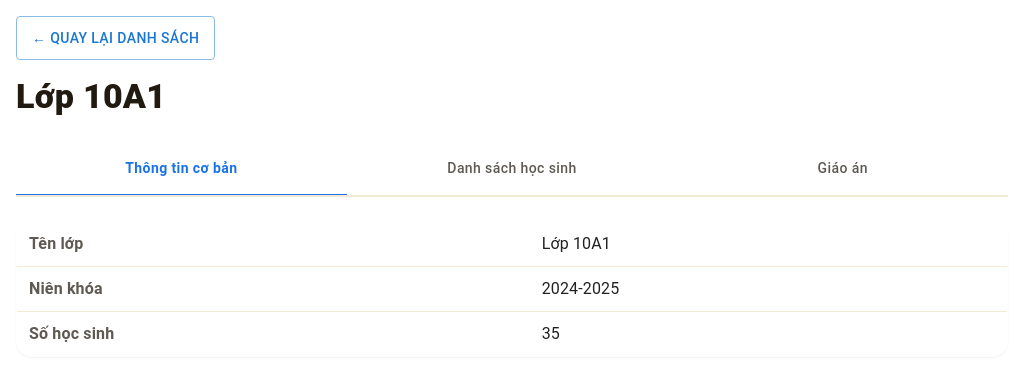
ClassDetailPage › switches to student list tab and shows StudentListTabs
Expected: the button "Thông tin cơ bản" is shown, [16, 142, 347, 198]
Click the button "Danh sách học sinh".
click(512, 170)  # box [347, 142, 677, 198]
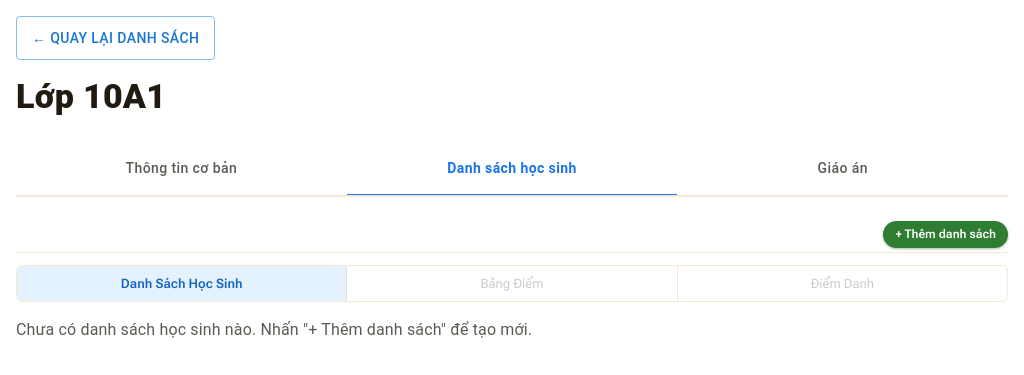
Now the button "+ Thêm danh sách" is shown, box [883, 222, 1008, 248]
